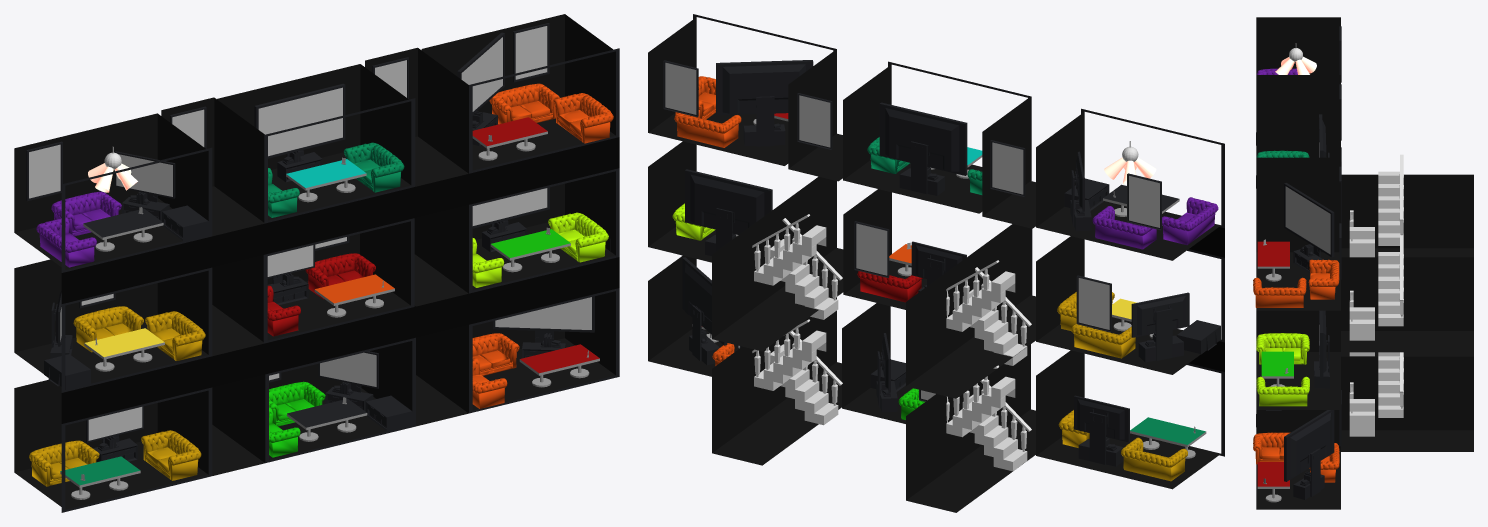
Rendered from Rooms.fbx.
The picture shows the model from 3 angles, left to right: view 1: azimuth 30°, elevation 25°; view 2: azimuth 150°, elevation 25°; view 3: azimuth 270°, elevation 25°; orthographic projection. The views are drawn at different scales.
Visible parts, largest first — view 1: Rooms, Poster, DiscoBall; view 2: Rooms, Poster, DiscoBall; view 3: Rooms, DiscoBall, Poster.
Part boxes in pixels (x1,y1,x2,y2): Rooms: (14, 14, 619, 512); Poster: (26, 23, 549, 382); DiscoBall: (88, 146, 137, 192); Rooms: (648, 14, 1224, 512); Poster: (663, 60, 1161, 401); DiscoBall: (1104, 141, 1156, 184); Rooms: (1253, 17, 1473, 509); DiscoBall: (1275, 43, 1316, 74); Poster: (1339, 26, 1341, 446).
Size of the model in its own units: 1662 by 940 by 686.
